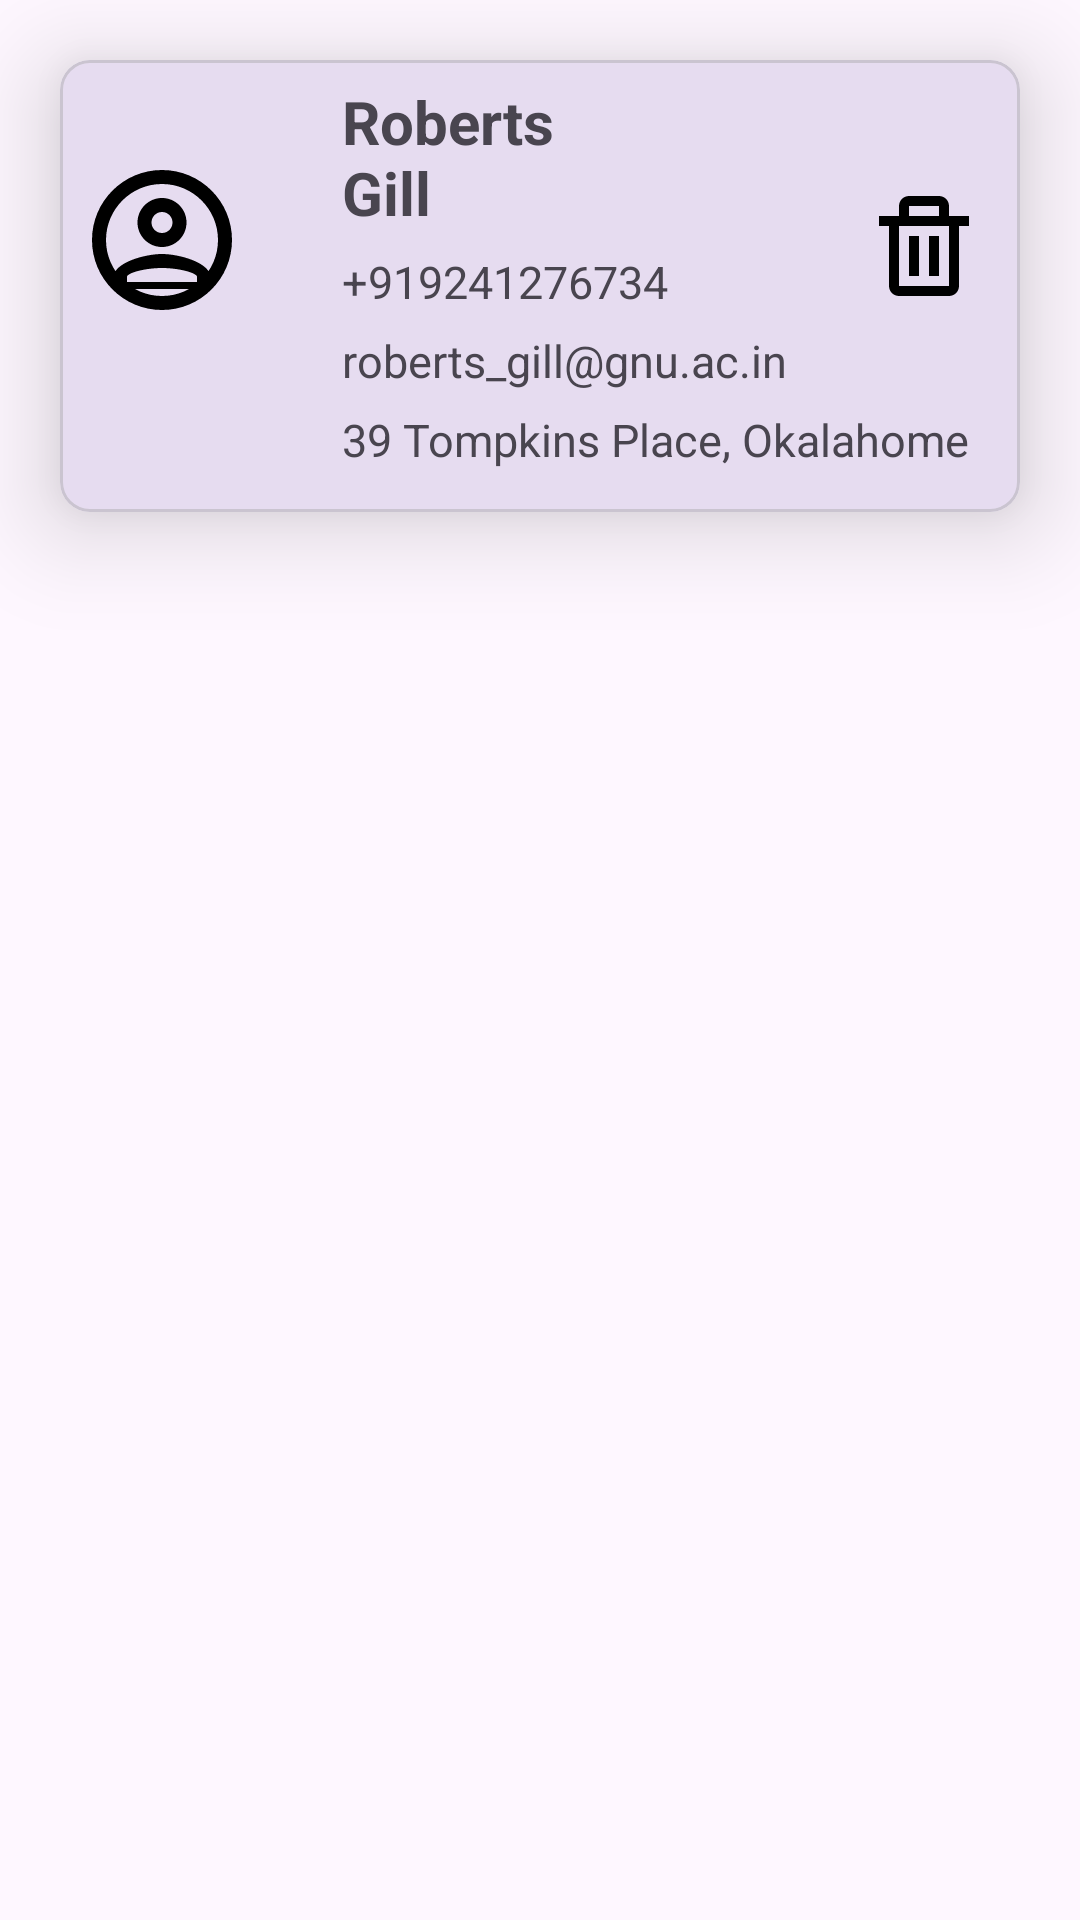

Where to tap for icons on this 1080 × 1920 app screen, as (x,y):
Delete: (924,246)
Profile Picture: (162,240)
